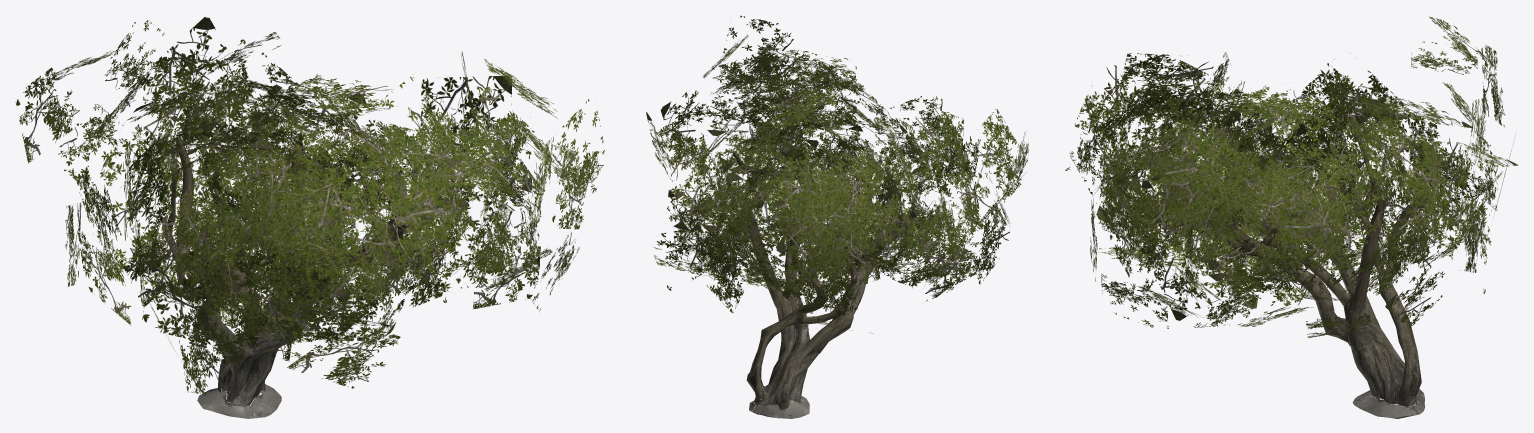
Rendered from olive.glb.
3 views of the same model, side by side, from view 1: azimuth 30°, elevation 25°; view 2: azimuth 150°, elevation 25°; view 3: azimuth 270°, elevation 25° (orthographic). The views are drawn at different scales.
Visible parts, largest first — view 1: cards, trunk; view 2: cards, trunk; view 3: cards, trunk.
Boxes of the visible parts, bbox=[...] form: cards: bbox=[15, 17, 604, 393]; trunk: bbox=[161, 136, 469, 418]; cards: bbox=[646, 15, 1028, 333]; trunk: bbox=[733, 134, 920, 418]; cards: bbox=[1065, 16, 1518, 337]; trunk: bbox=[1158, 115, 1439, 418].
Bounding box in the file's own units: 6.22 × 4.96 × 5.93.
2 materials, 2 textured.
